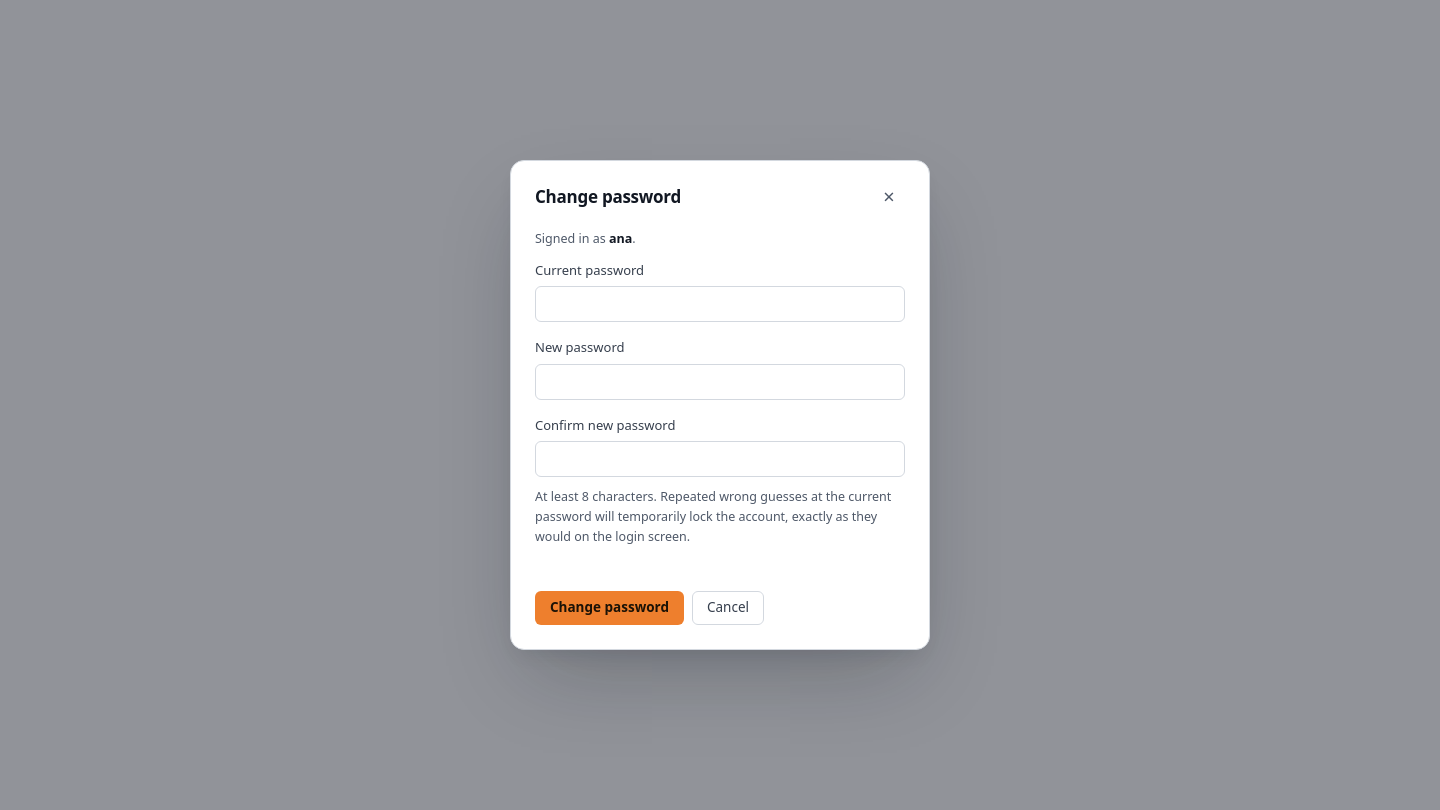
Test: ChangePasswordModal — the rules, before anything is sent › refuses a new password identical to the current one
Type "same-password" into the 1st password field at (720, 304), box [535,286,905,322]
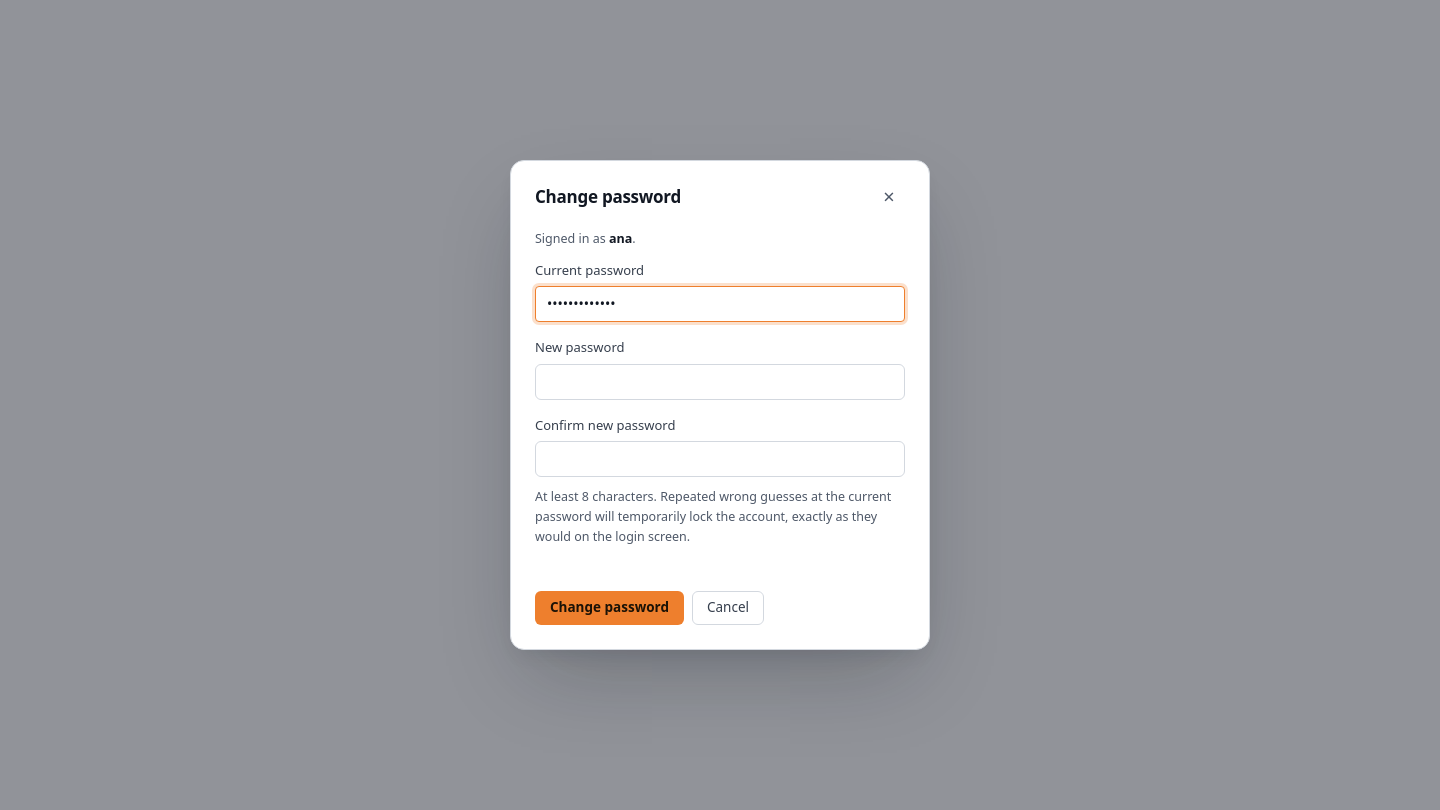
Type "same-password" into the 2nd password field at (720, 382), box [535,364,905,400]
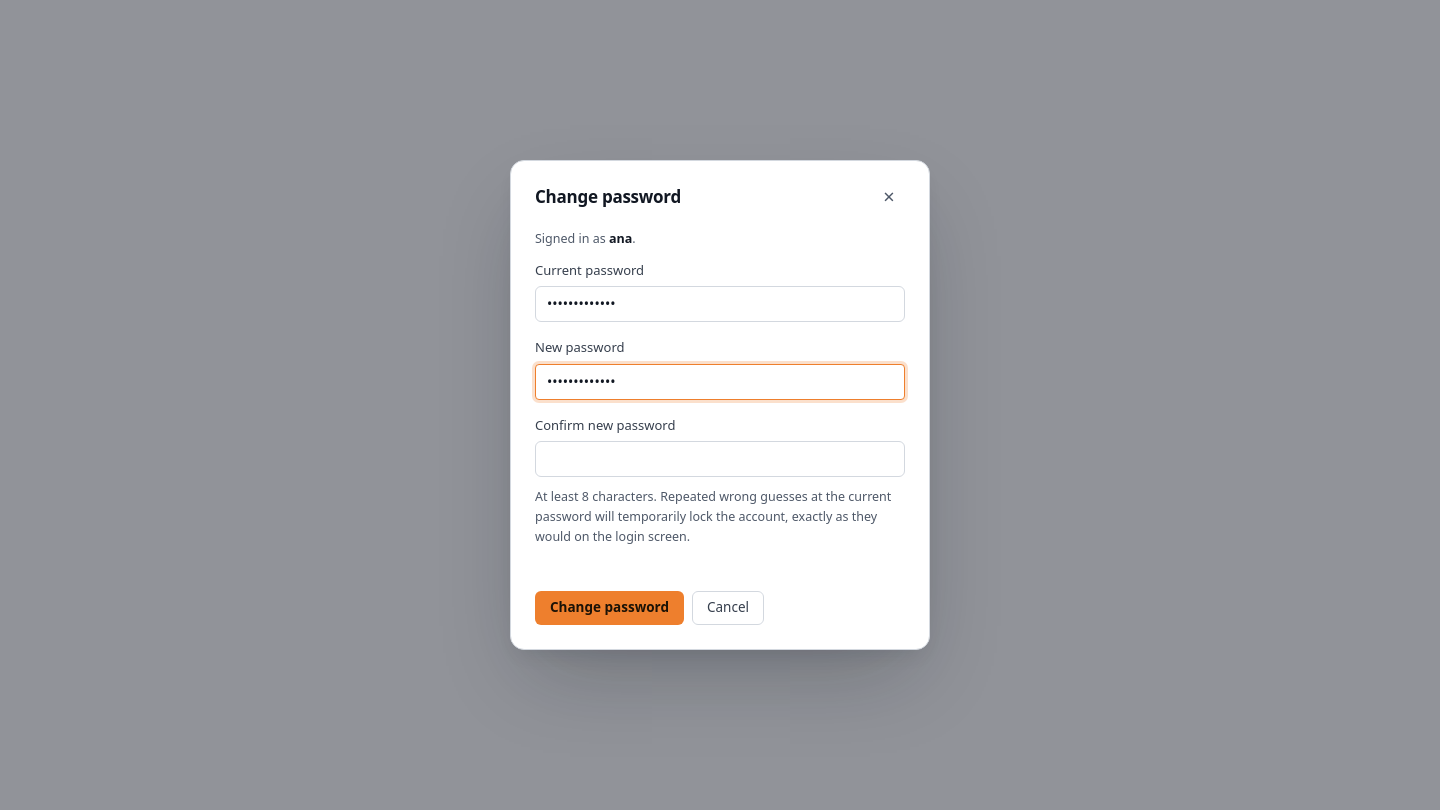
Type "same-password" into the password field below "Confirm new password" at (720, 459), box [535,441,905,477]
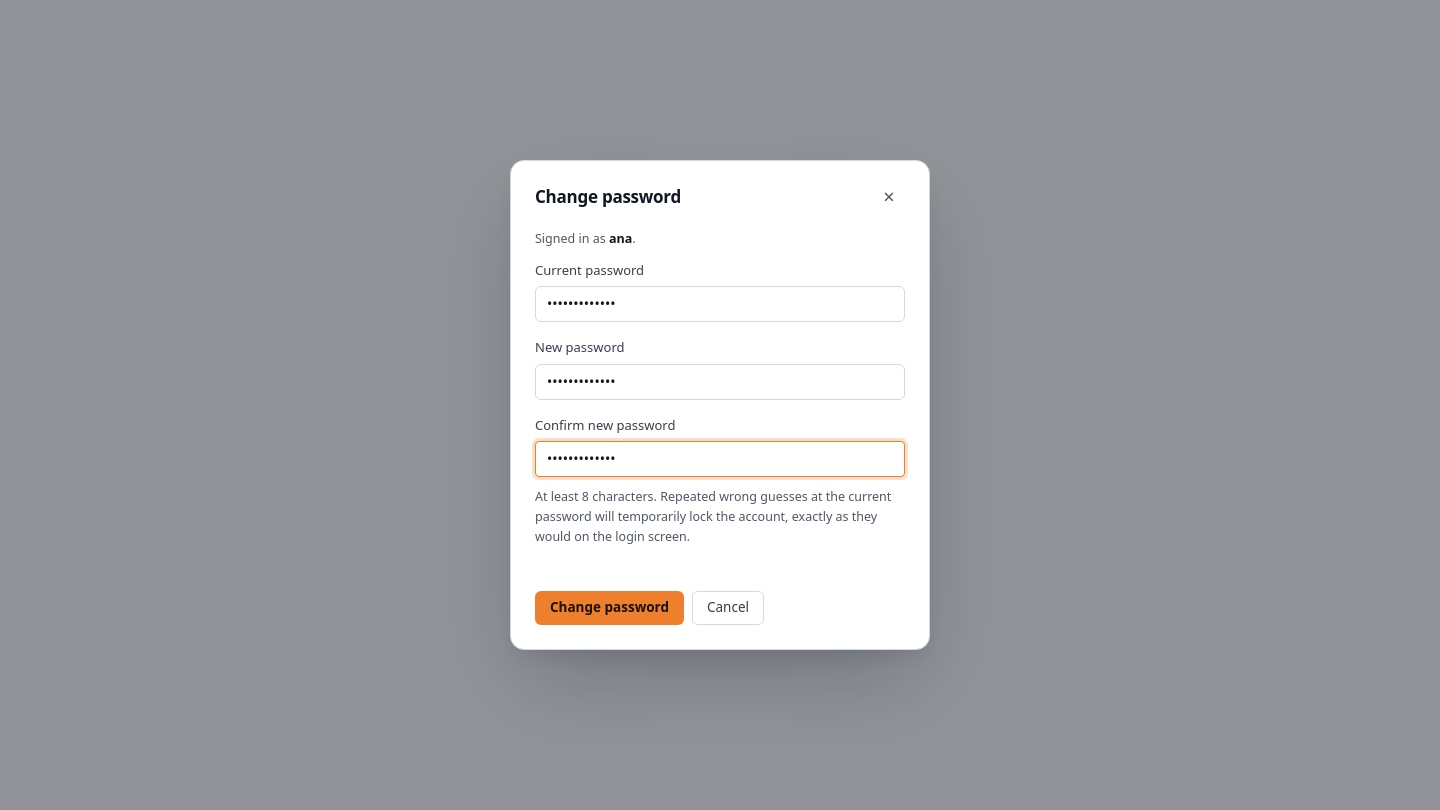
Click the button "Change password" at (610, 608), box [535,591,684,625]
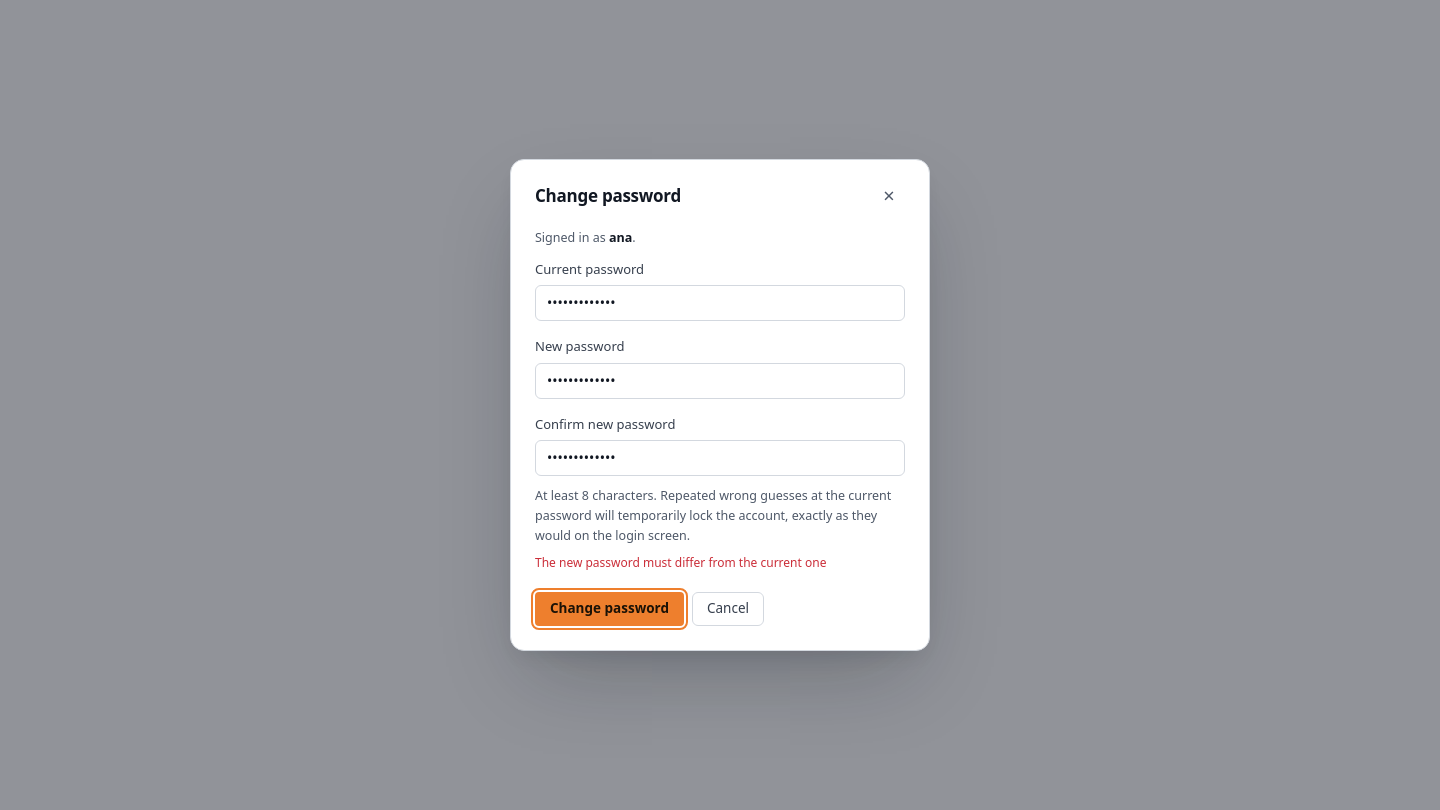
Expected: the text "The new password must differ from the current one" is shown, [535,554,826,571]
